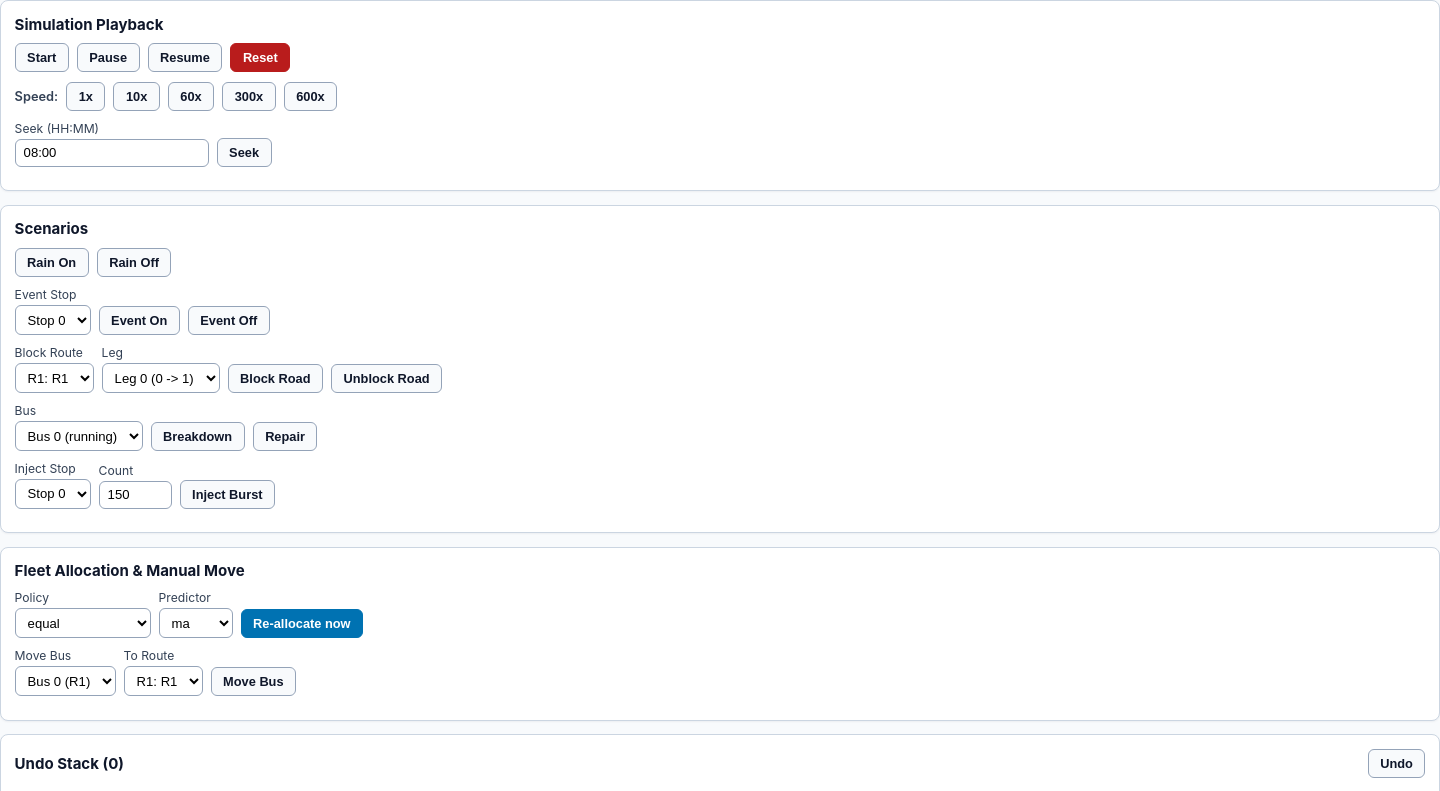
it: ControlPanel › disables button while pending, re-enables after error, and displays error code toast
The width and height of the screenshot is (1440, 791).
Later steps or results of the test are not shown.
Click the button "Undo" at (1397, 763), box [1368,749,1425,778]
(page scrolled)
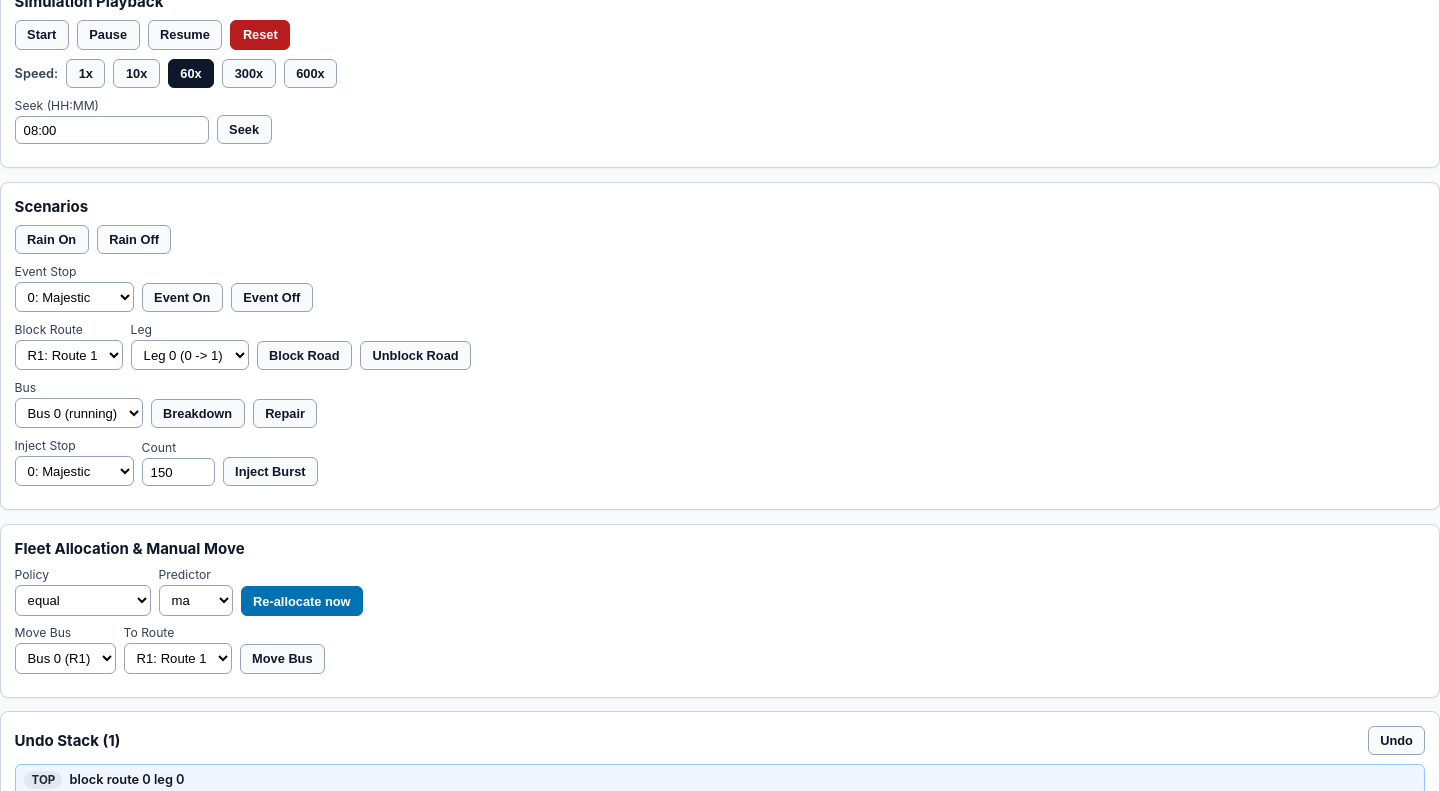
Click the button "Undo" at (1397, 740), box [1368,726,1425,755]
(page scrolled)
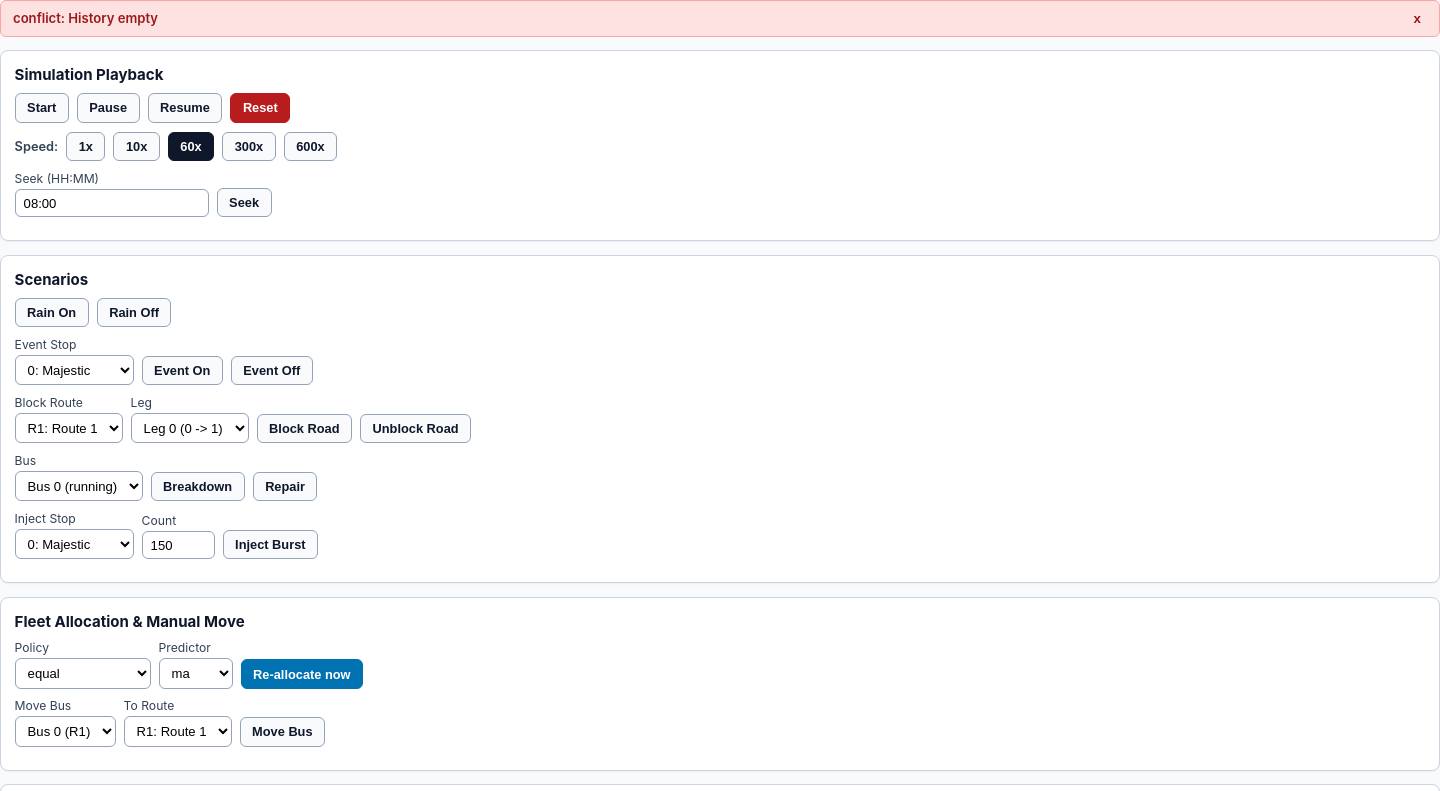
Now the message with test id "control-toast" shows "conflict", box [13,10,158,26]
